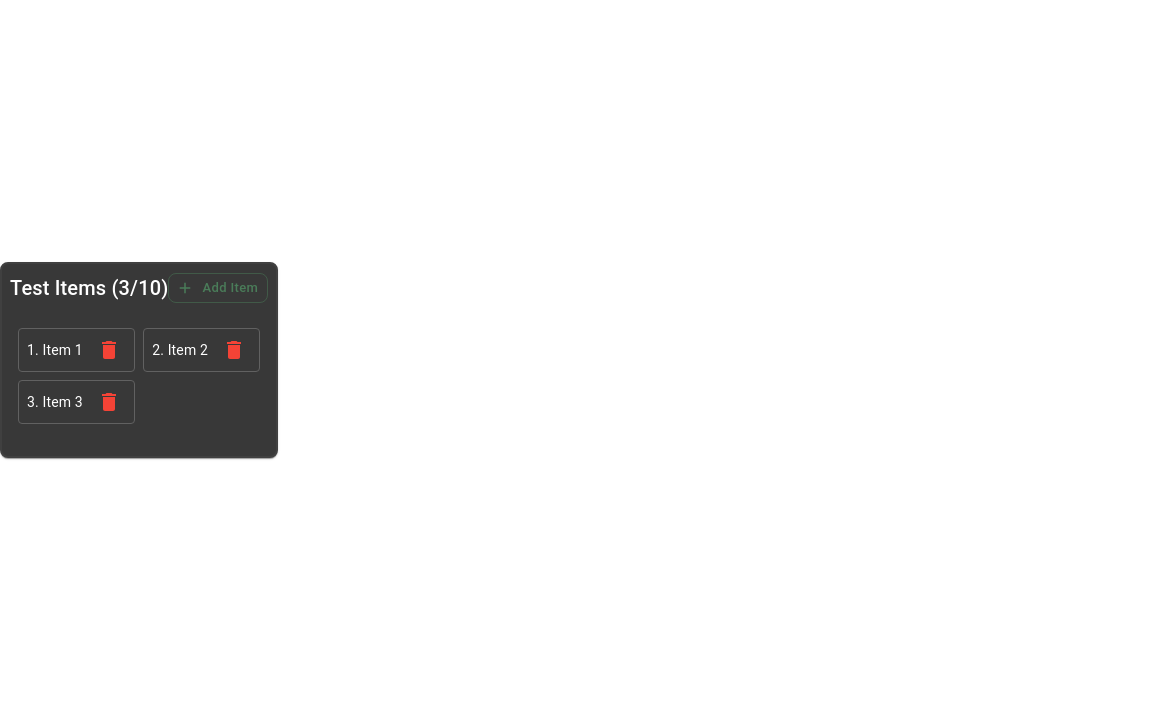
ItemList › Add Item Functionality › adds item when form is submitted
This screenshot has width=1152, height=720.
// Open dialog
Click the button "Add Item" at (218, 288), box [168,273,268,303]
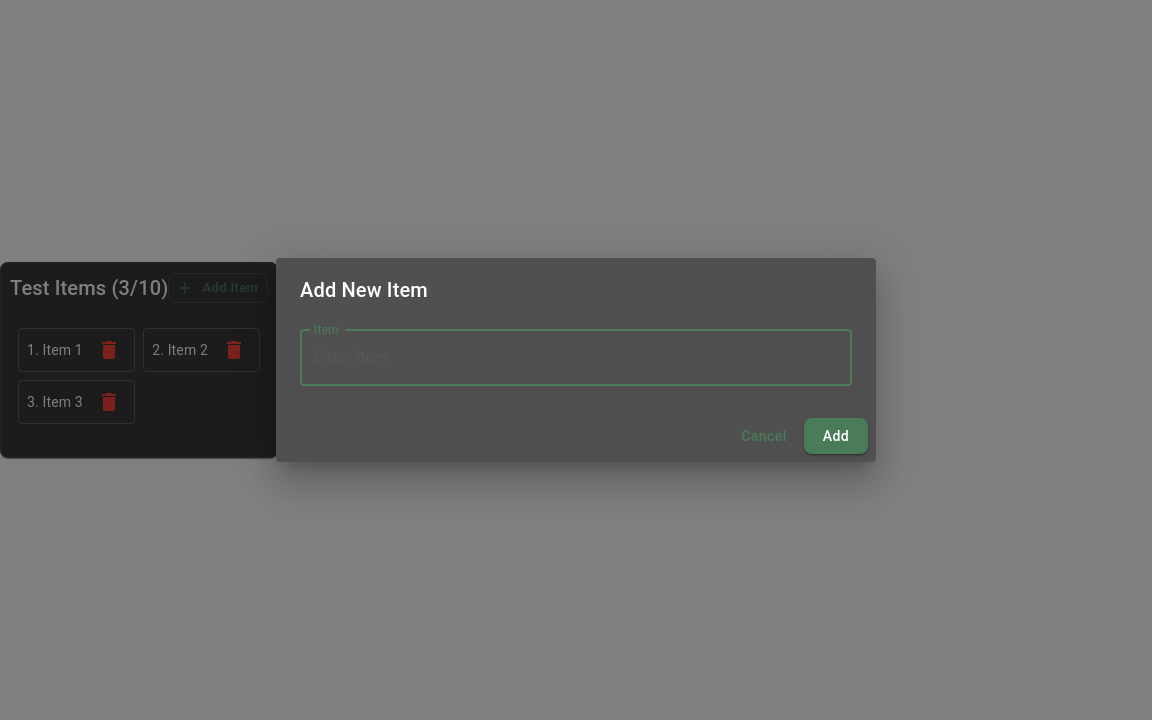
// Enter item name
Type "New Item" into the field labelled "Item" at (576, 358), box [300,330,852,386]
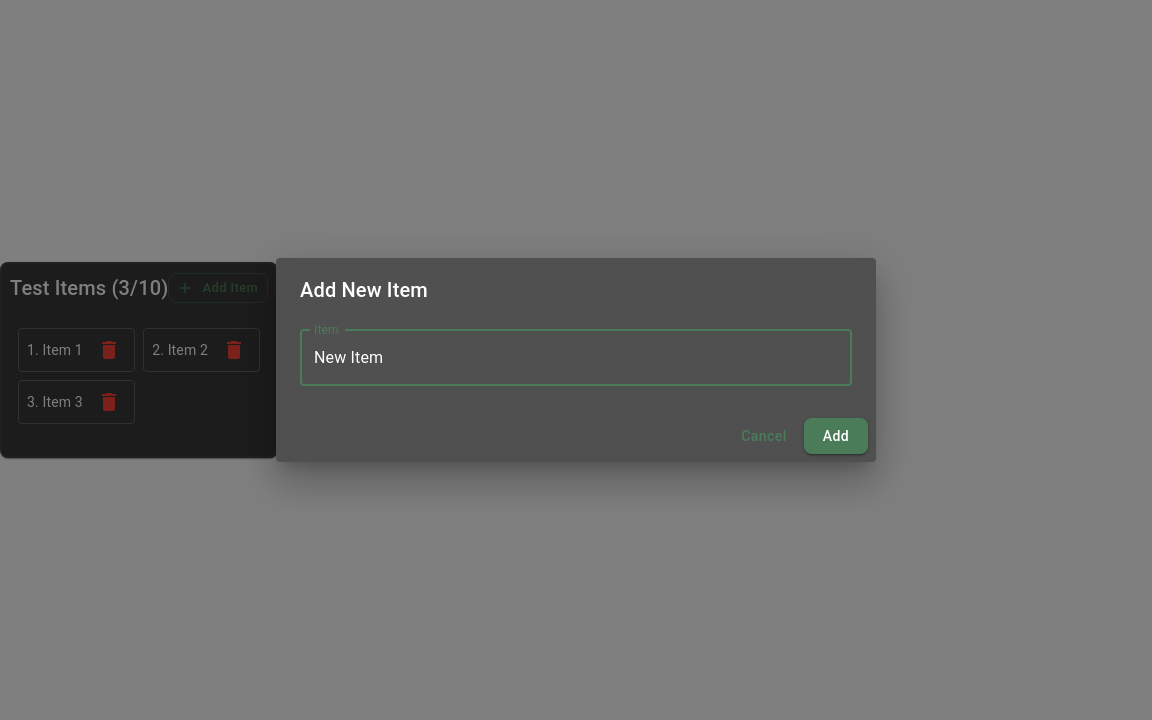
// Submit form
Click the button "Add" at (836, 436), box [804,418,868,454]
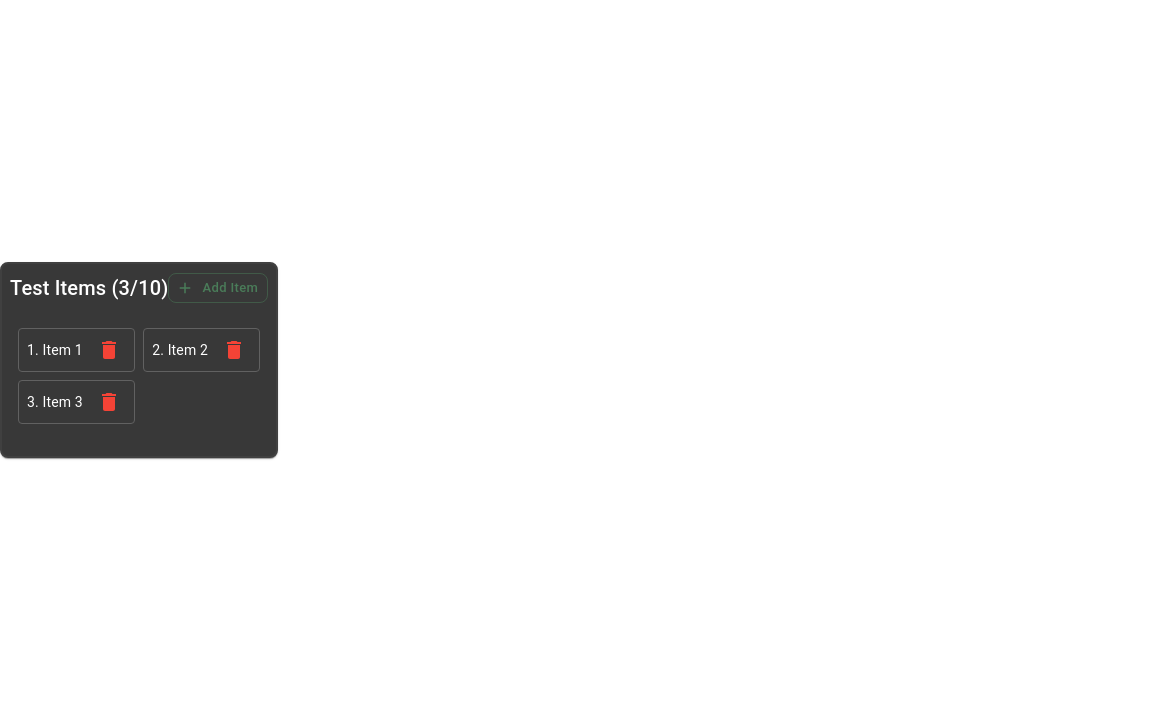
Now the dialog is gone
